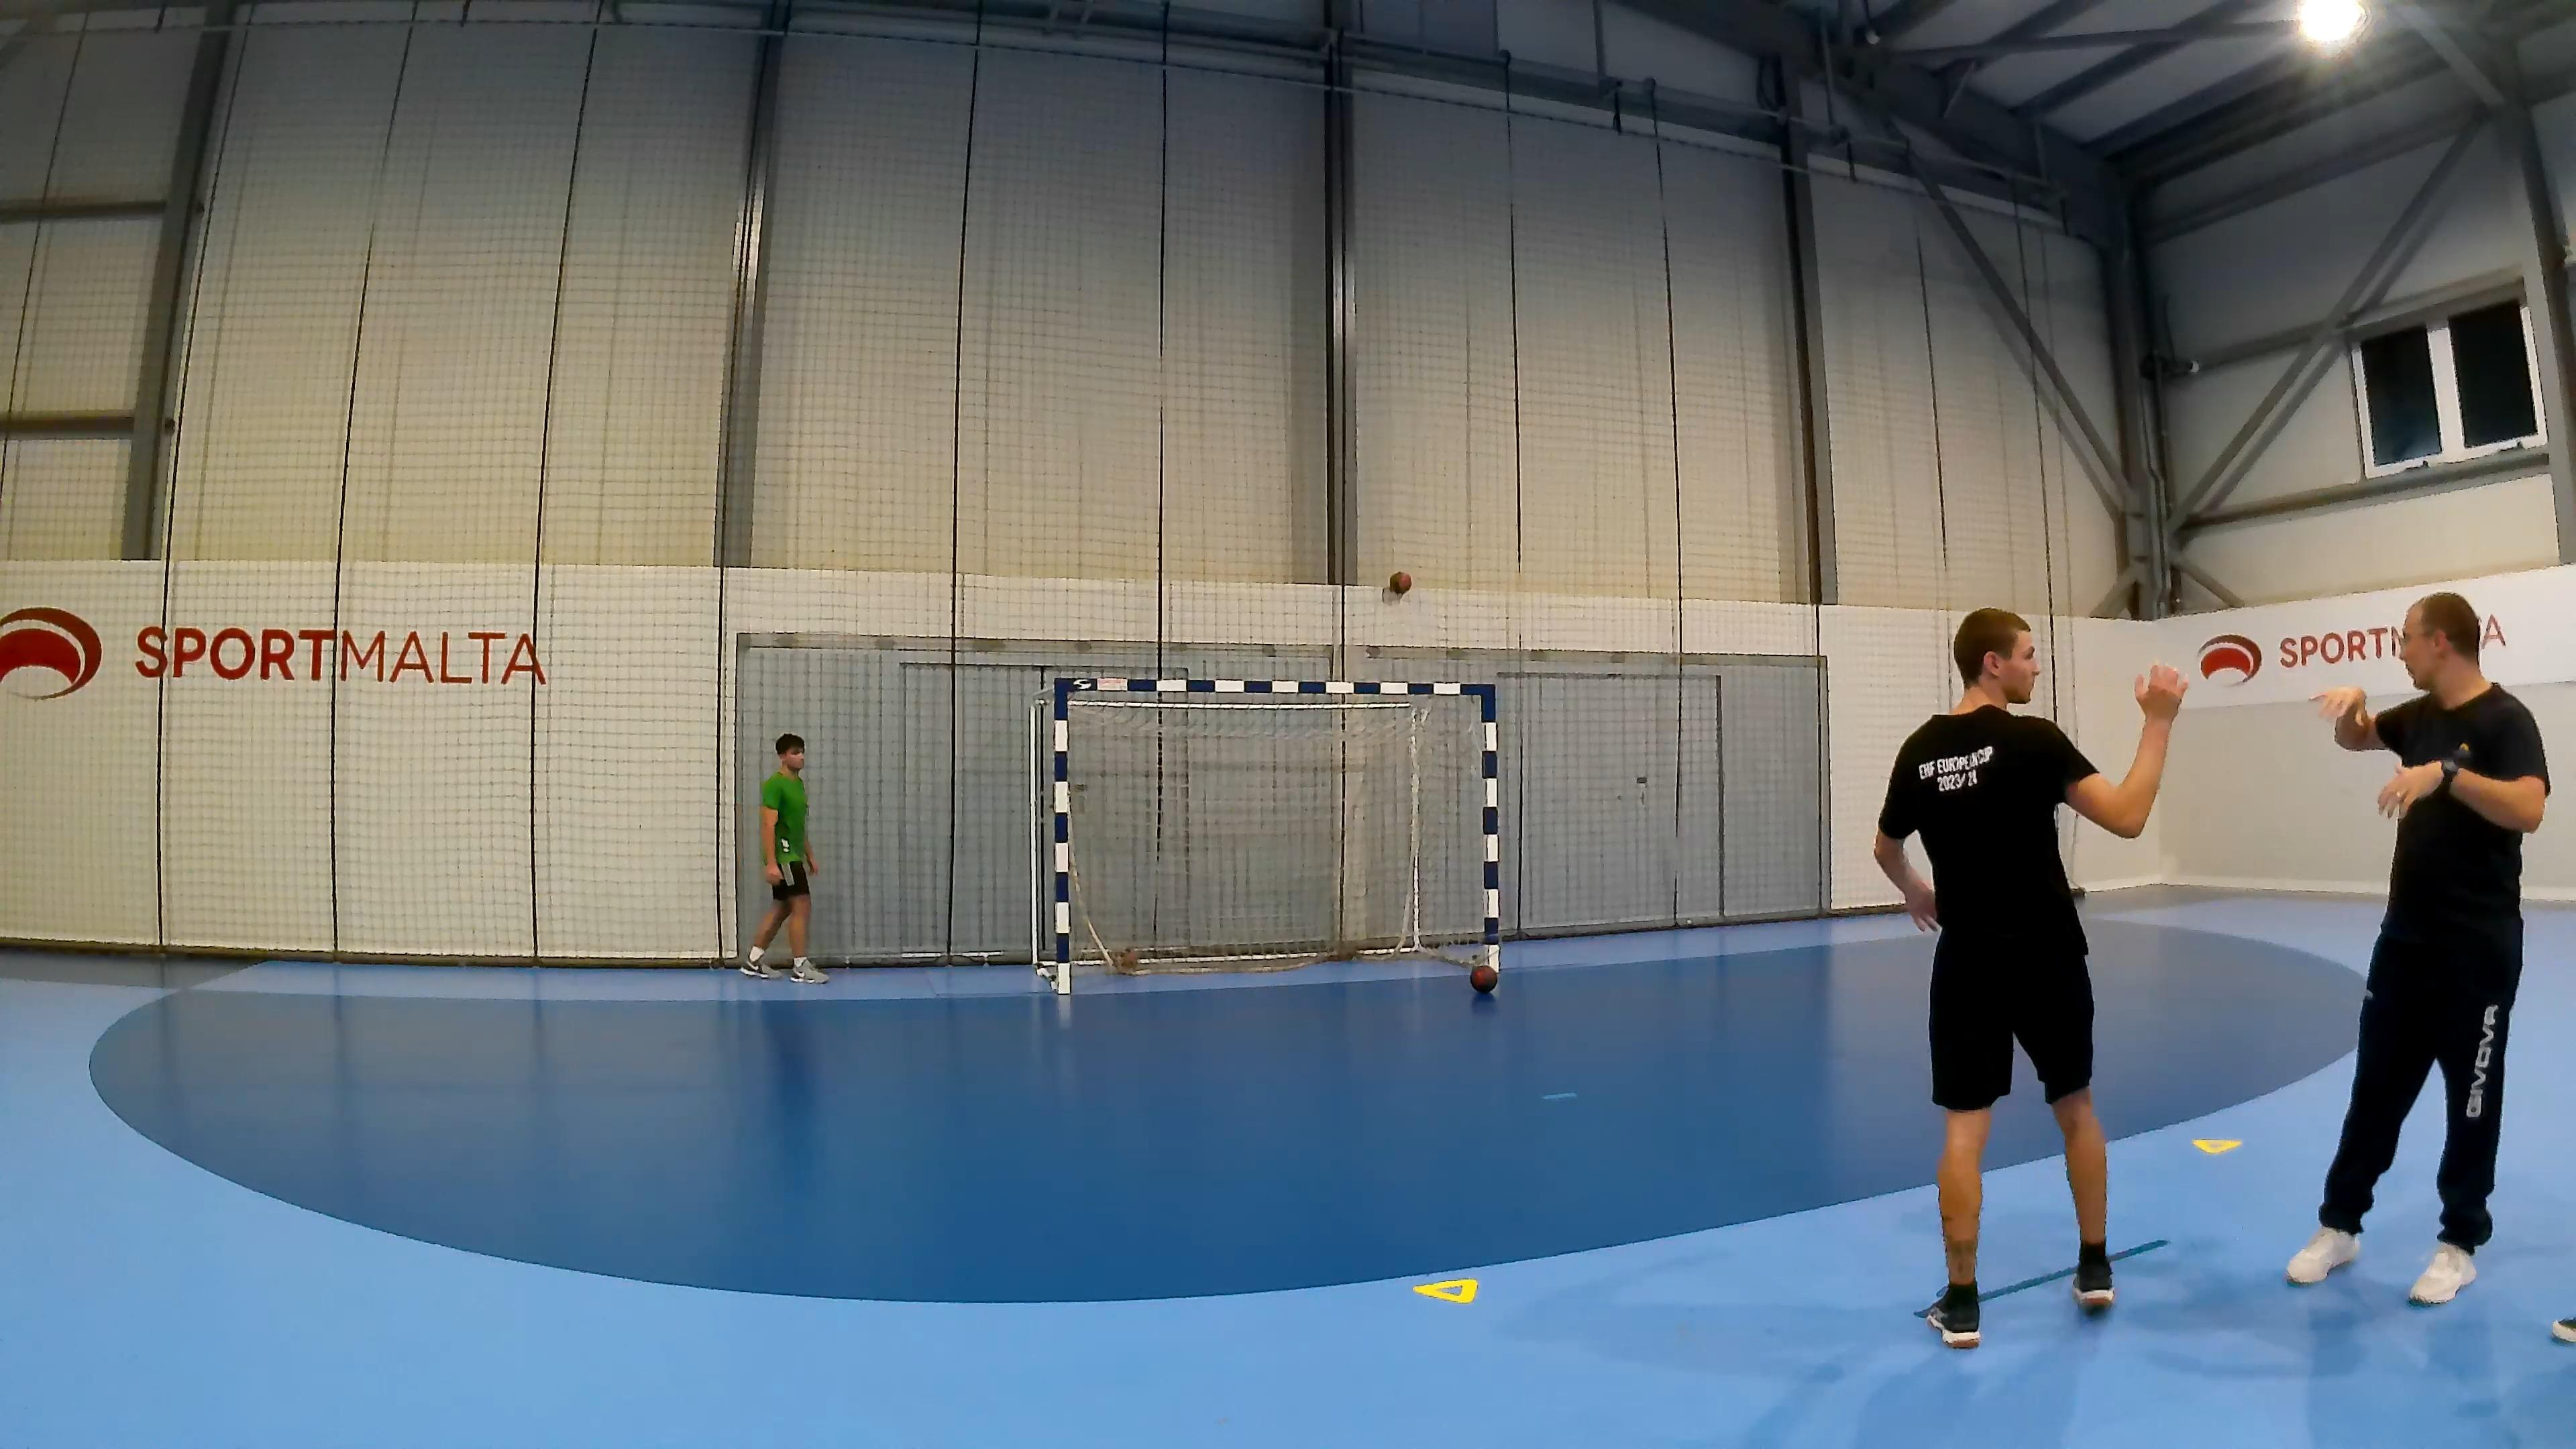handball: (1468, 962, 1497, 991), (1384, 568, 1412, 593)
